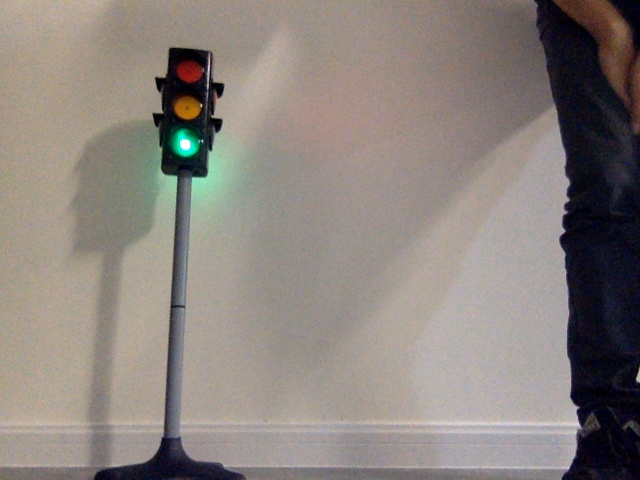green: (167, 54, 202, 163)
